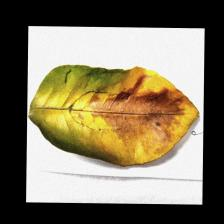black spot: (80, 76, 183, 156)
